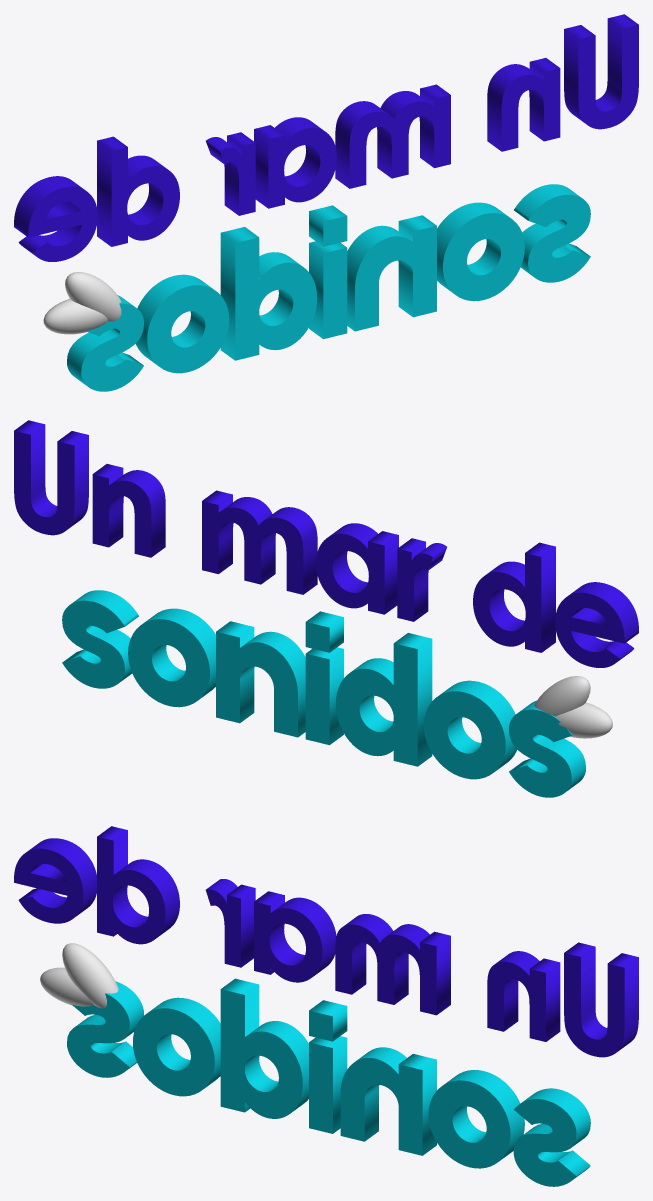
File: frase.glb
3 renders of one model, top to bottom at view 1: azimuth 30°, elevation 25°; view 2: azimuth 150°, elevation 25°; view 3: azimuth 330°, elevation 25°, orthographic.
Parts seen in each view (by area): view 1: Text.001, Text, Sphere, Sphere.001; view 2: Text.001, Text, Sphere, Sphere.001; view 3: Text.001, Text, Sphere, Sphere.001.
Part boxes in pixels (x1,y1,x2,y2): Text.001: [67, 184, 590, 391]; Text: [14, 14, 638, 261]; Sphere: [65, 272, 121, 321]; Sphere.001: [43, 299, 107, 334]; Text.001: [62, 590, 585, 797]; Text: [14, 420, 638, 667]; Sphere: [534, 676, 590, 716]; Sphere.001: [555, 702, 612, 738]; Text.001: [67, 978, 590, 1186]; Text: [14, 826, 638, 1057]; Sphere: [62, 943, 118, 1008]; Sphere.001: [40, 967, 93, 1006].
Bounding box in the file's own units: 3.43 × 1.29 × 0.1684.
